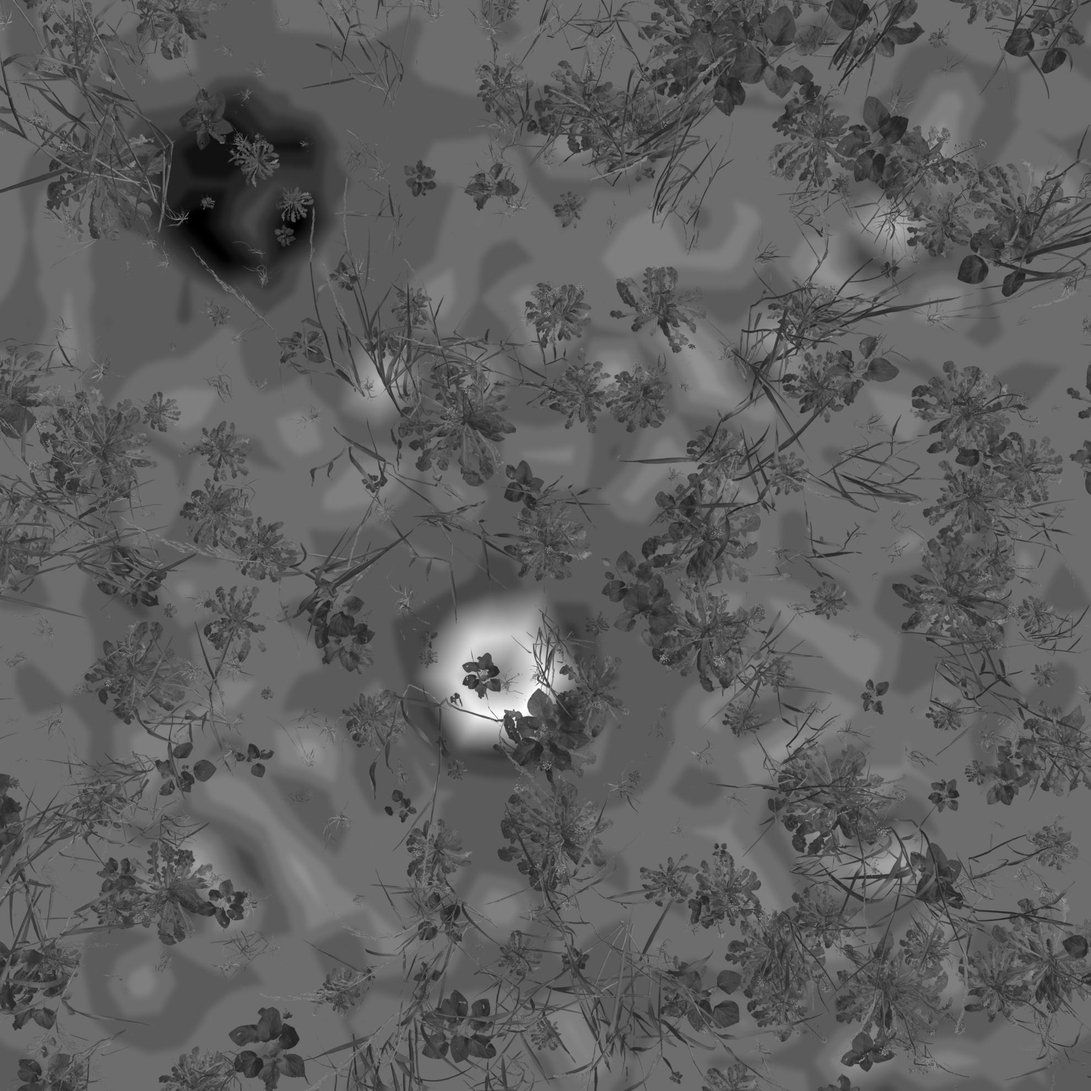landmine: (140, 88, 347, 291), (396, 571, 602, 772)
